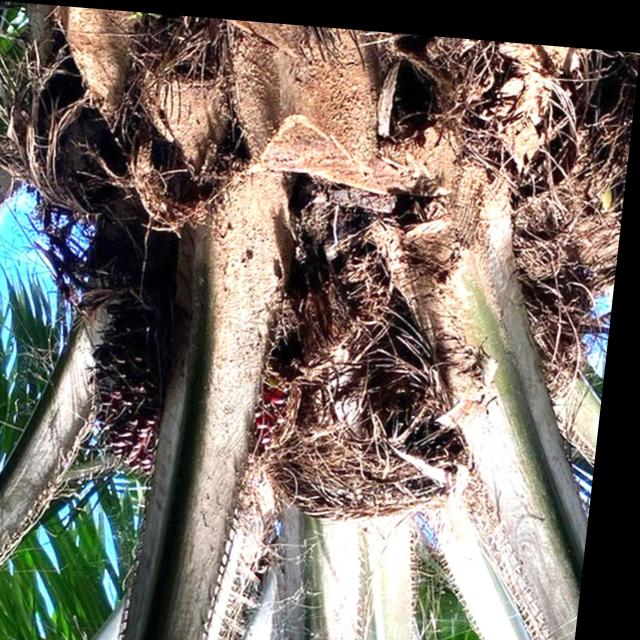ripe: (79, 259, 318, 491)
